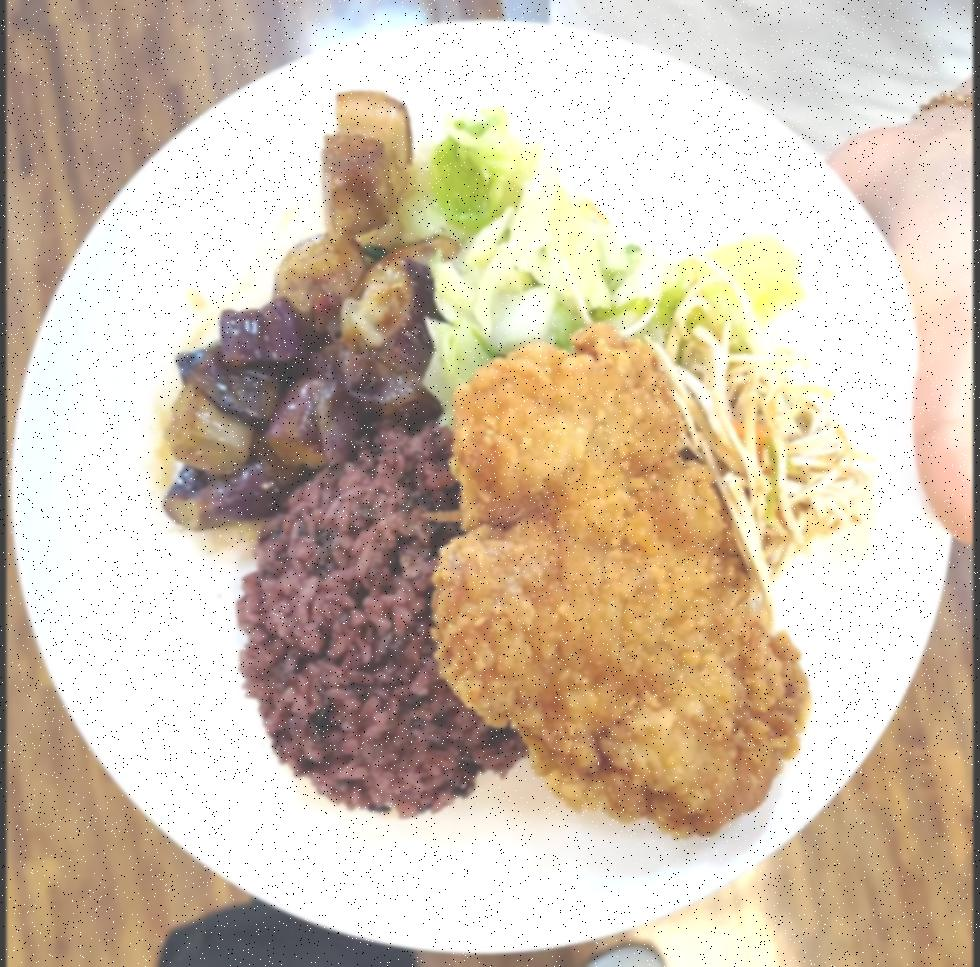big fried chicken leg: (13, 6, 958, 951)
braised fish: (232, 430, 516, 815)
braised fish fillet: (399, 95, 796, 415), (157, 78, 433, 527), (645, 309, 865, 575)
braised pork: (432, 324, 815, 834)
